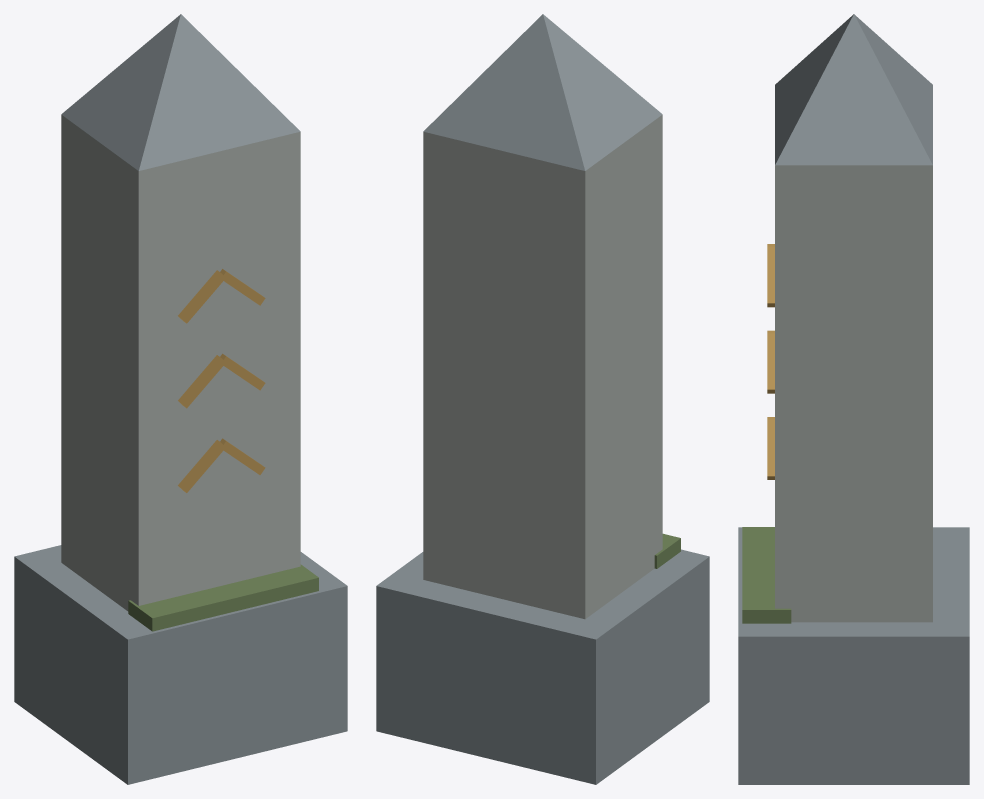
File: waystone.glb
3 renders of one model, left to right at view 1: azimuth 30°, elevation 25°; view 2: azimuth 150°, elevation 25°; view 3: azimuth 270°, elevation 25°, orthographic.
Parts seen in each view (by area): view 1: waystone; view 2: waystone; view 3: waystone.
Boxes of the visible parts, left/top/right/bottom form: waystone: left=14, top=14, right=347, bottom=784; waystone: left=376, top=14, right=709, bottom=784; waystone: left=738, top=14, right=969, bottom=784.
Bounding box in the file's own units: 0.95 × 2.9 × 0.85.
